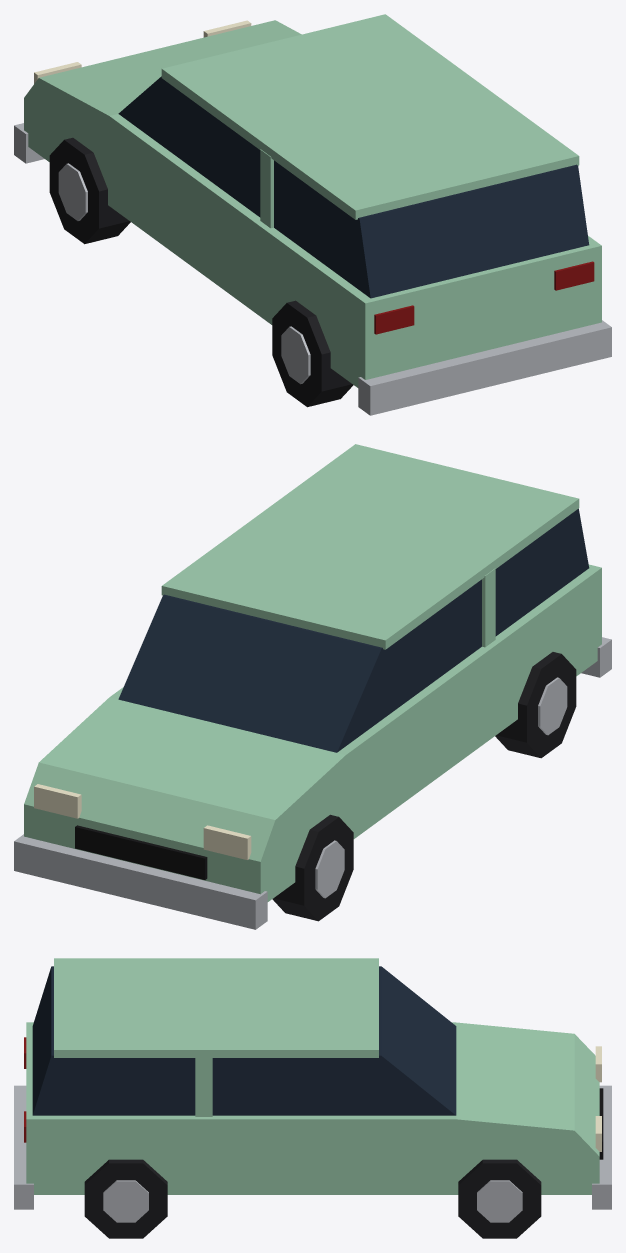
Rendered from CarWagonMint.obj.
The picture shows the model from 3 angles, top to bottom: view 1: azimuth 30°, elevation 25°; view 2: azimuth 150°, elevation 25°; view 3: azimuth 270°, elevation 25°; orthographic projection. The views are drawn at different scales.
Parts seen in each view (by area): view 1: CarWagonMint; view 2: CarWagonMint; view 3: CarWagonMint.
Part boxes in pixels (x1,y1,x2,y2): CarWagonMint: (14, 14, 611, 415); CarWagonMint: (14, 444, 611, 929); CarWagonMint: (14, 958, 611, 1238).
Bounding box in the file's own units: 2.01 × 1.61 × 4.8.
1 material, 1 textured.
